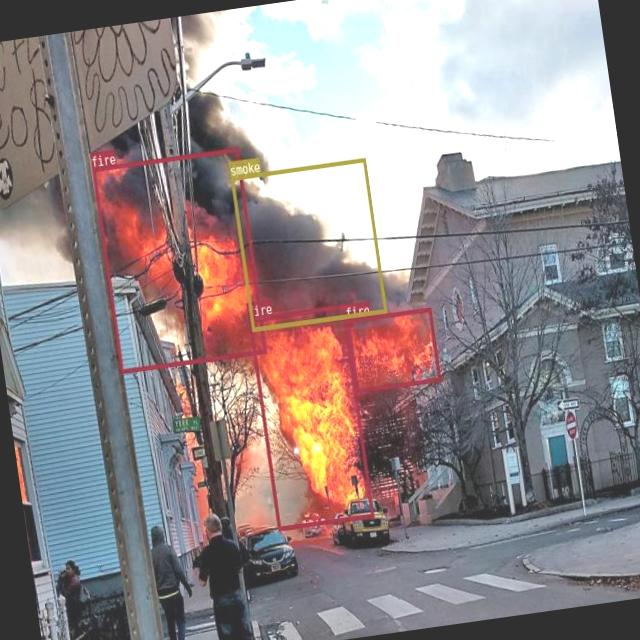fire: (91, 147, 266, 373), (248, 304, 374, 531), (346, 306, 442, 392)
smoke: (230, 158, 386, 331)
